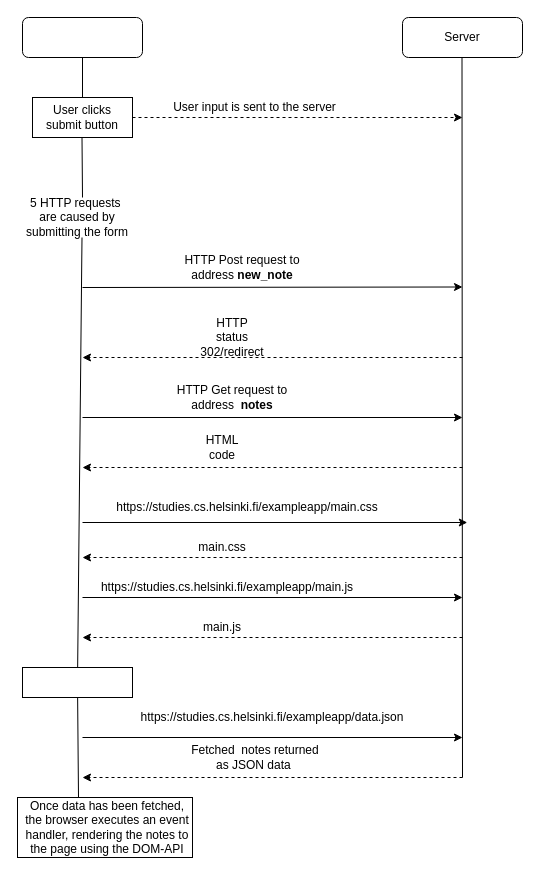
This 540x875 diagram has some shape labels left out. Each missing label, with the centre of its shape:
Browser: the point at 82,37
Browser executes JS code: the point at 77,682
